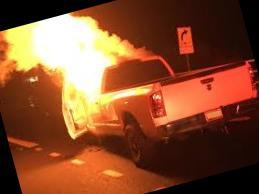Fire: (0, 0, 163, 130)
